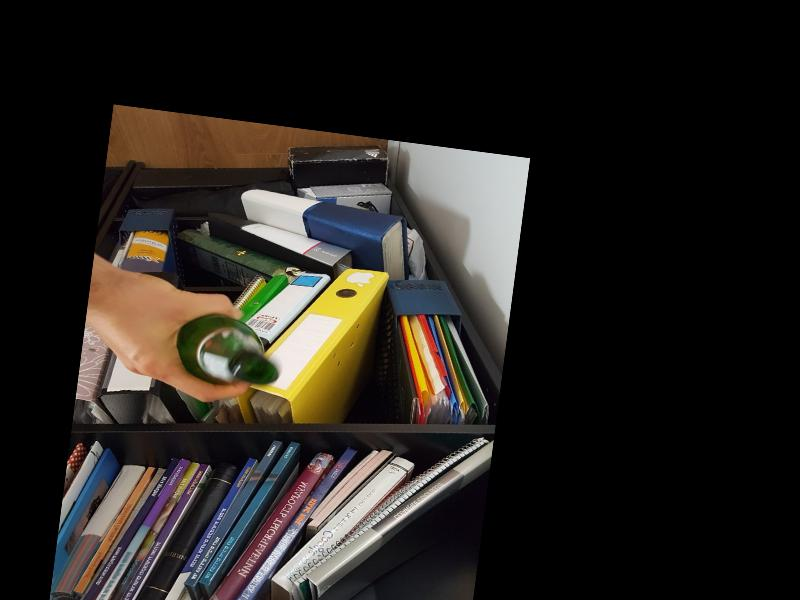Beer: (172, 309, 284, 390)
